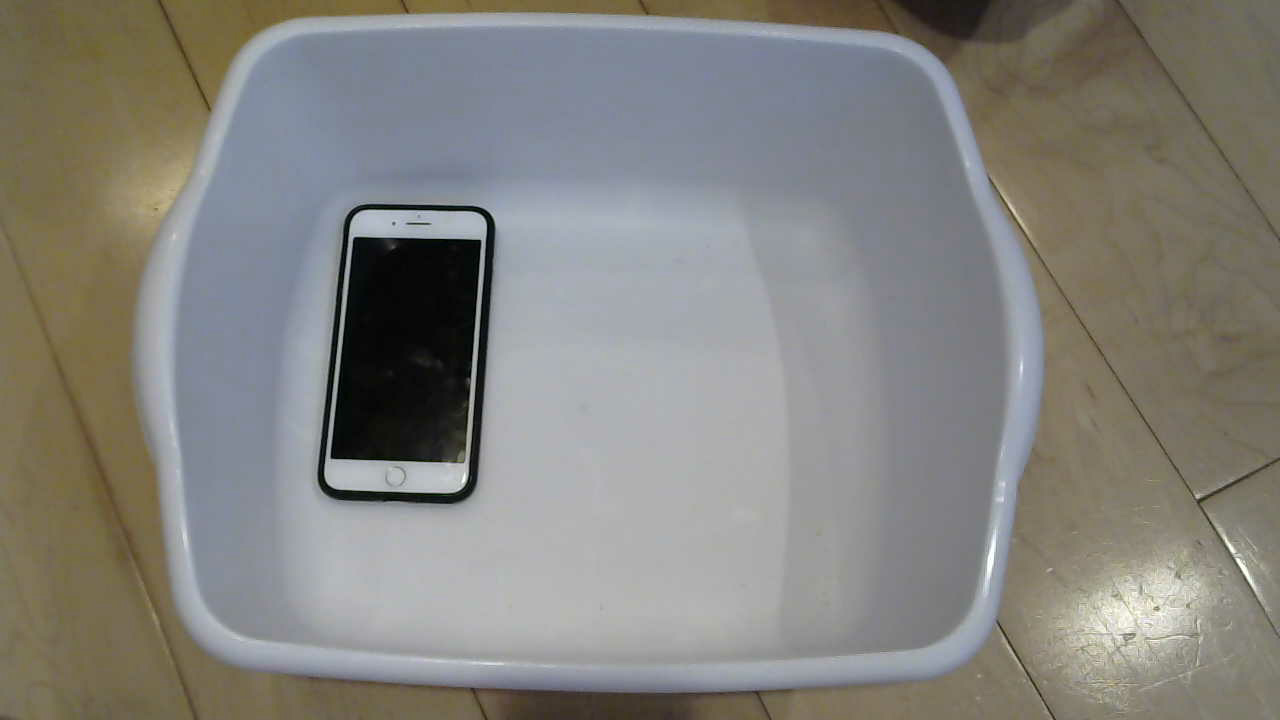phone: (306, 184, 513, 517)
